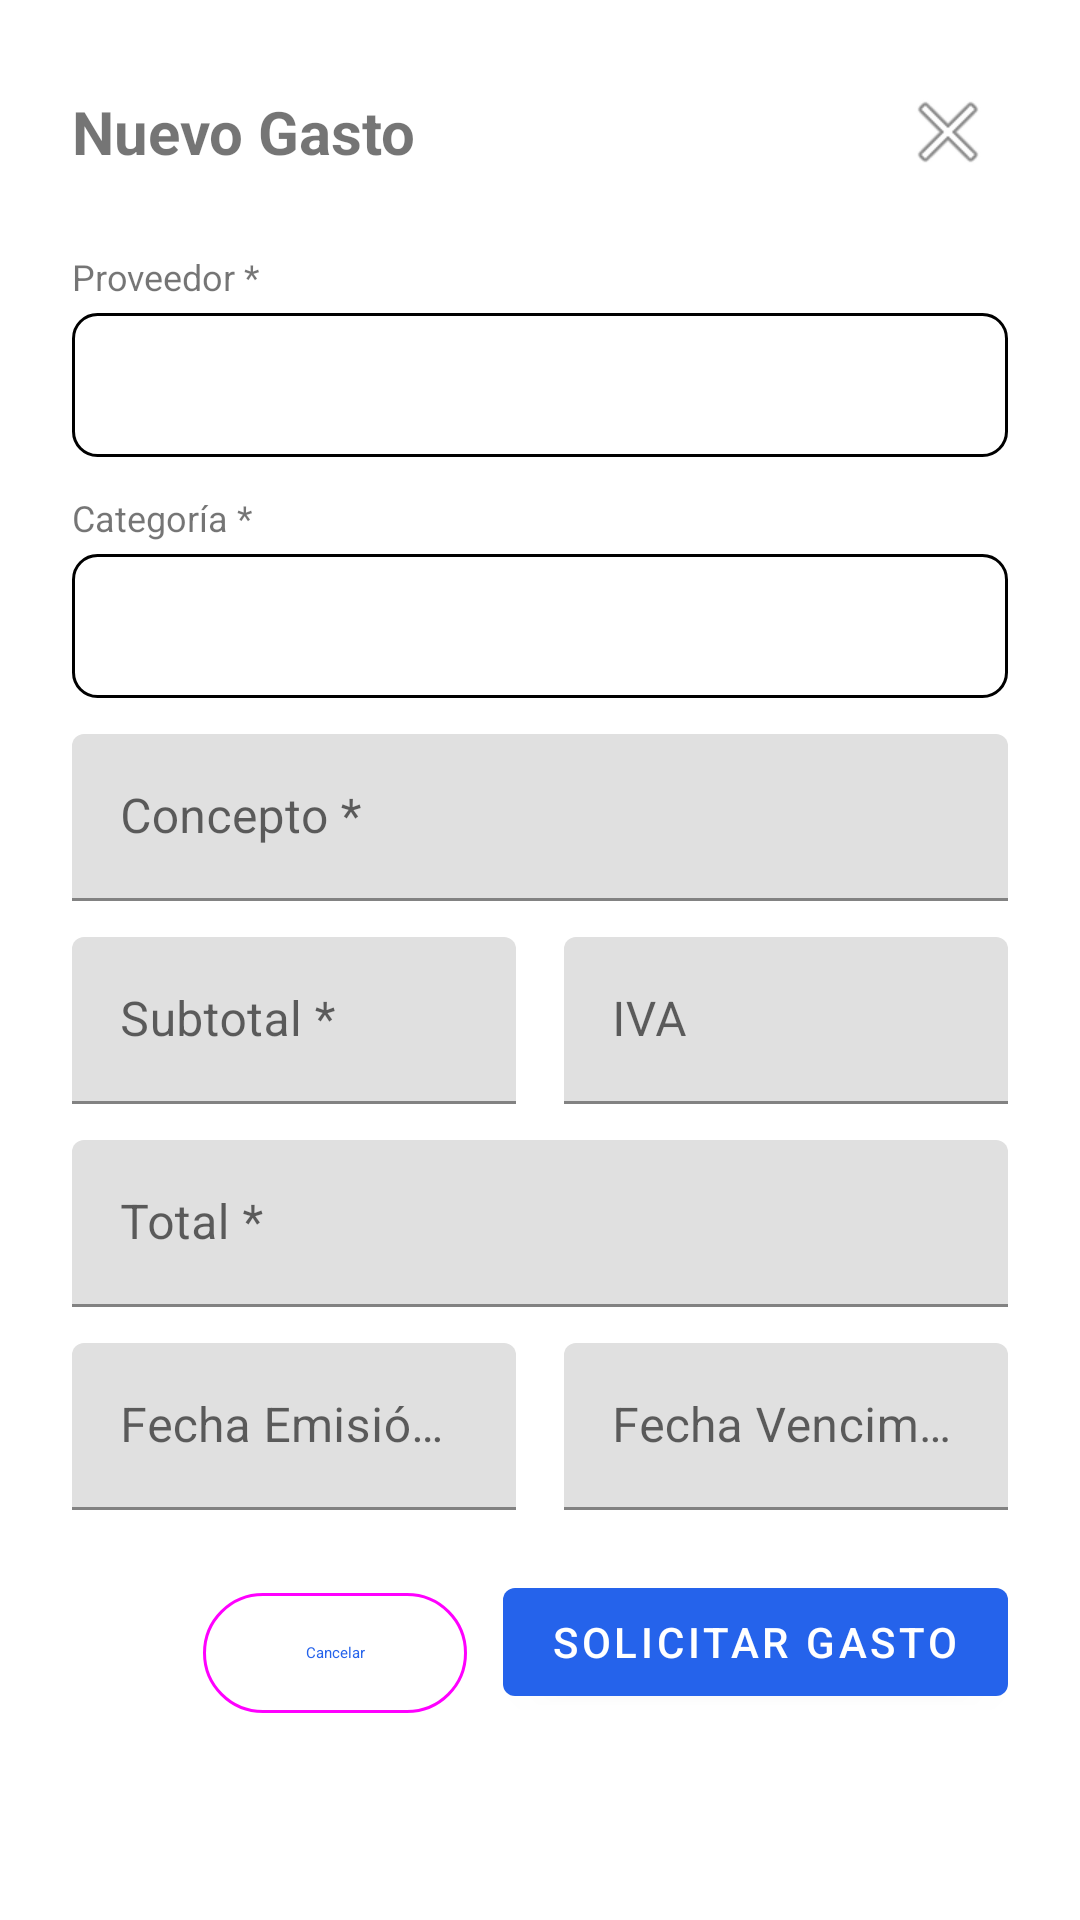

Named icons in this screenshot (1080 x 1920) and their centers, (x,y):
Cerrar: (948,132)
